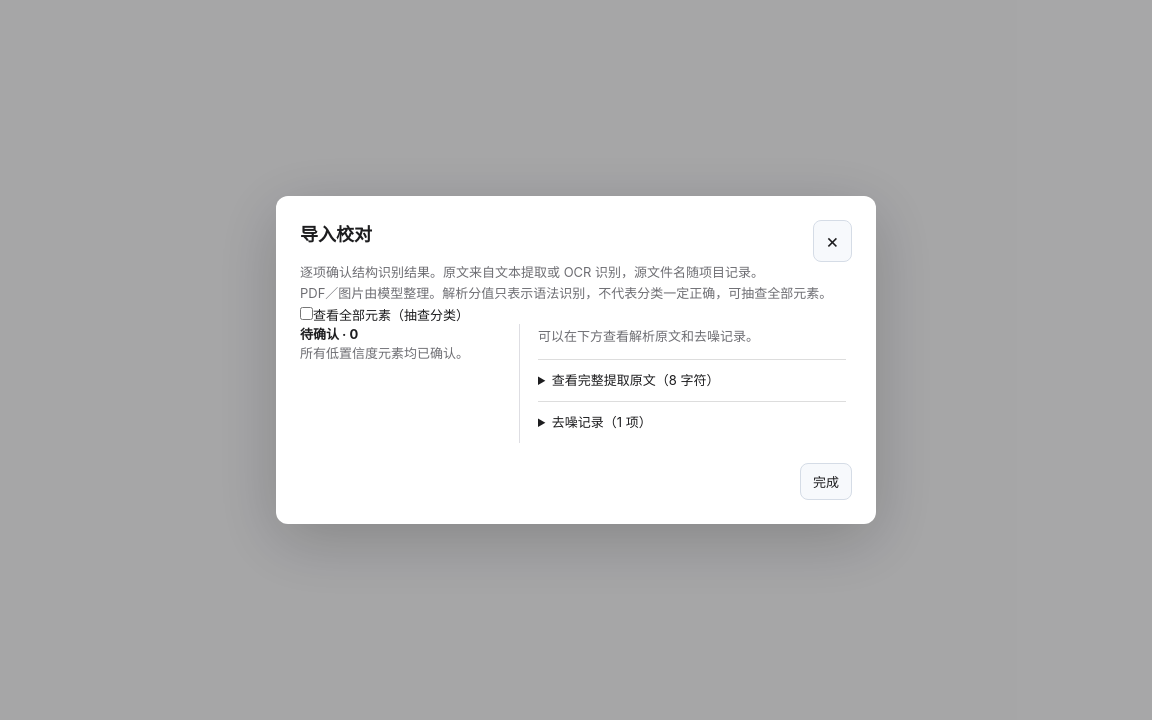
PDF可抽查高分元素的类型，不把语法高分当成模型分类保证
This screenshot has width=1152, height=720.
Step 1. Click the checkbox labelled "查看全部元素（抽查分类）" → (306, 313), box [300,307,313,320]
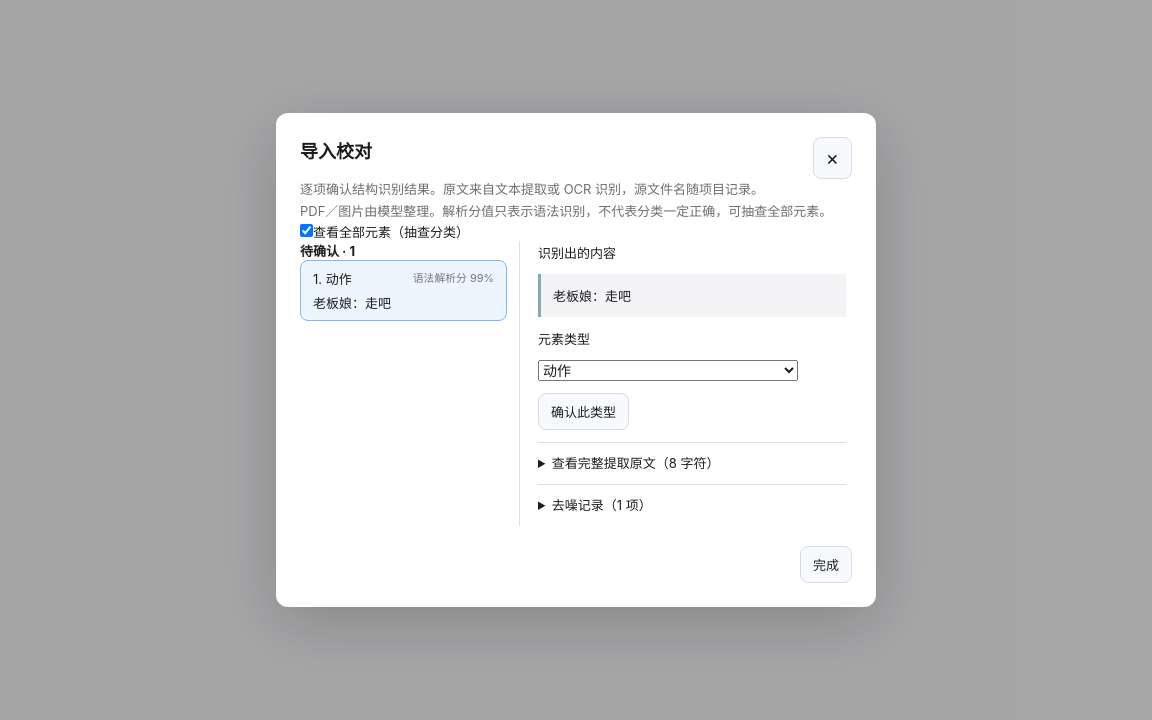
Expected: the text "老板娘：走吧" is shown 2 times, [313,295,391,311]; [538,274,846,317]
Expected: the text "语法解析分 99%" is shown, [413,269,494,285]
